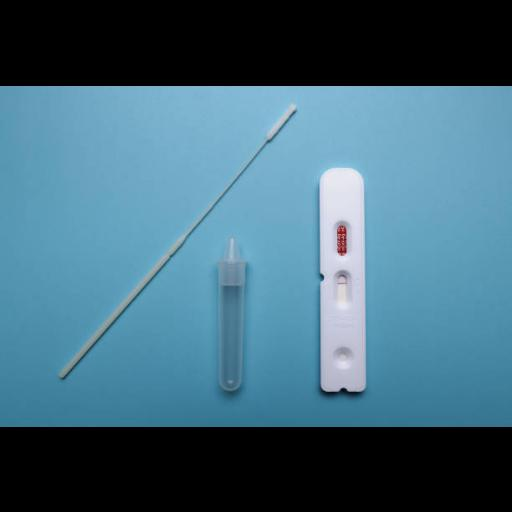Neg: (320, 168, 366, 390)
